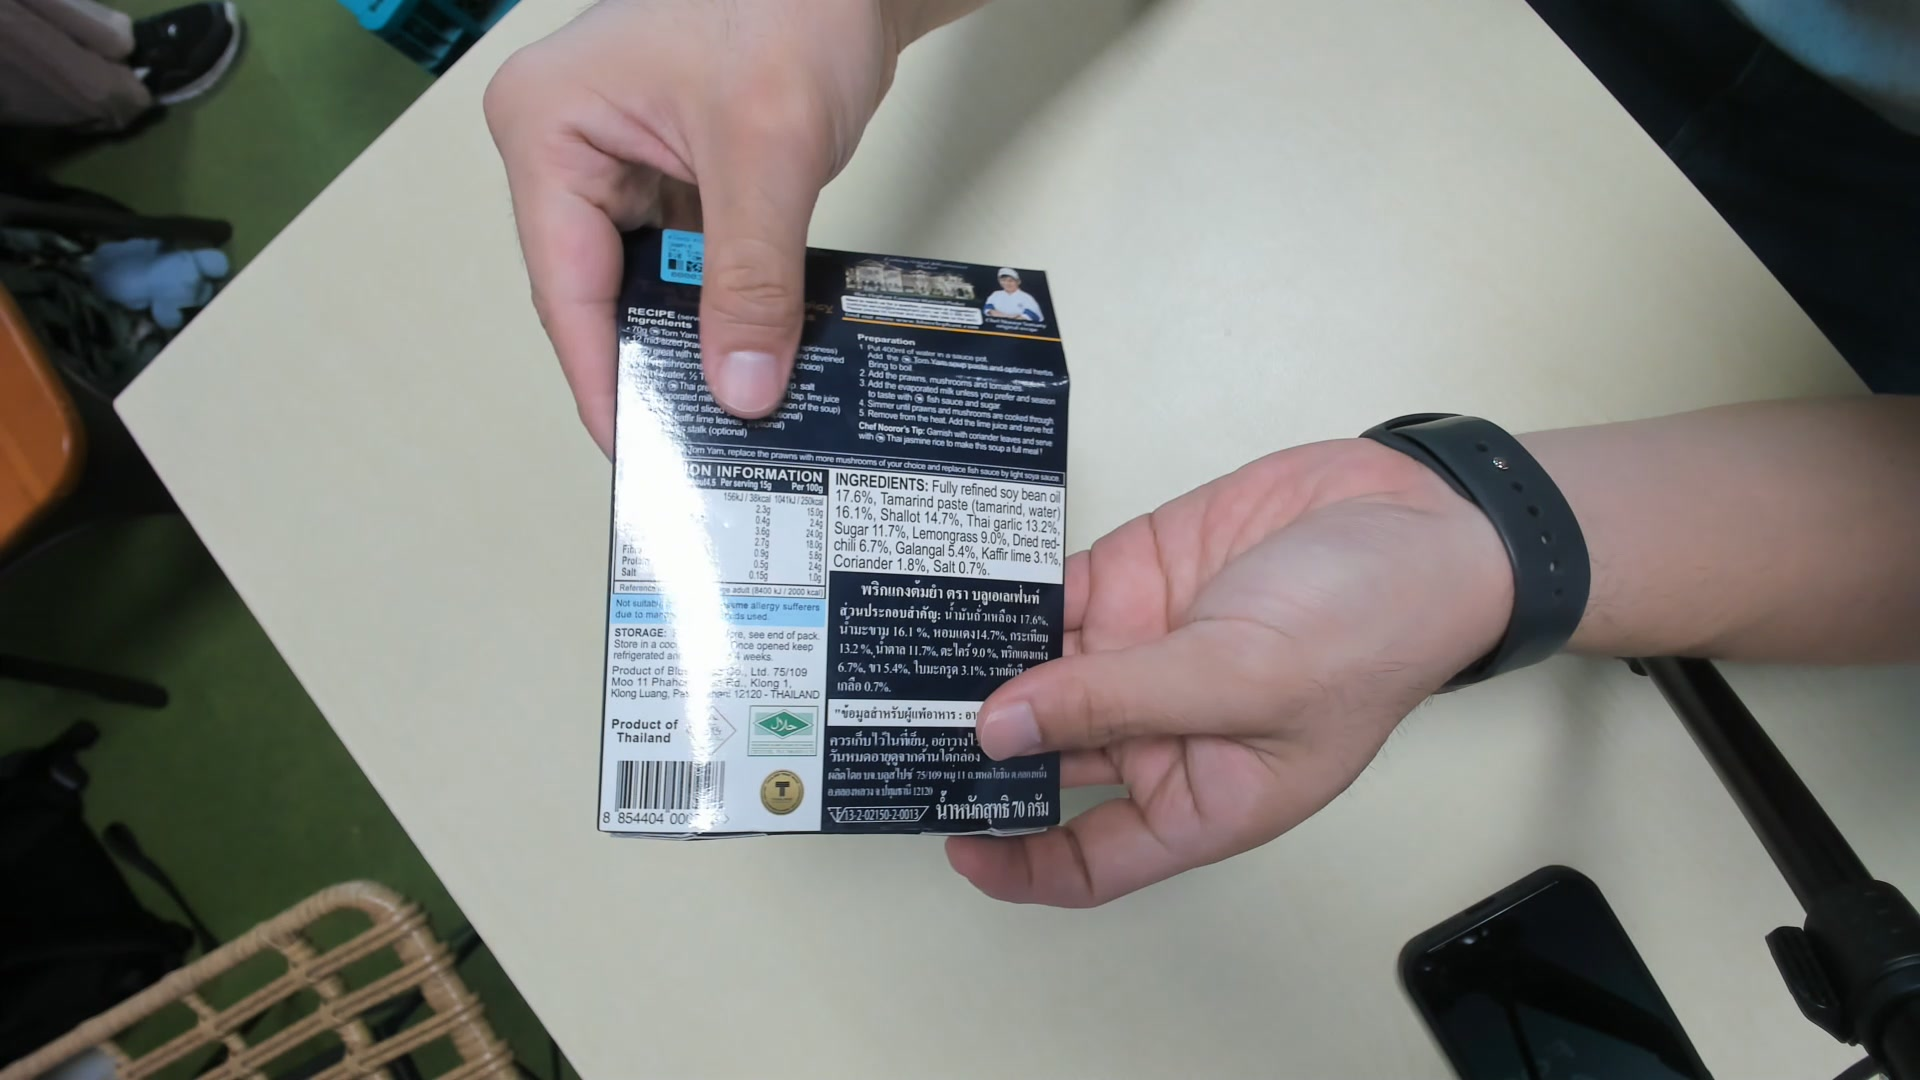OtherSauceDressing_0-99g_Halal_NonHealthy: (588, 206, 1062, 837)
